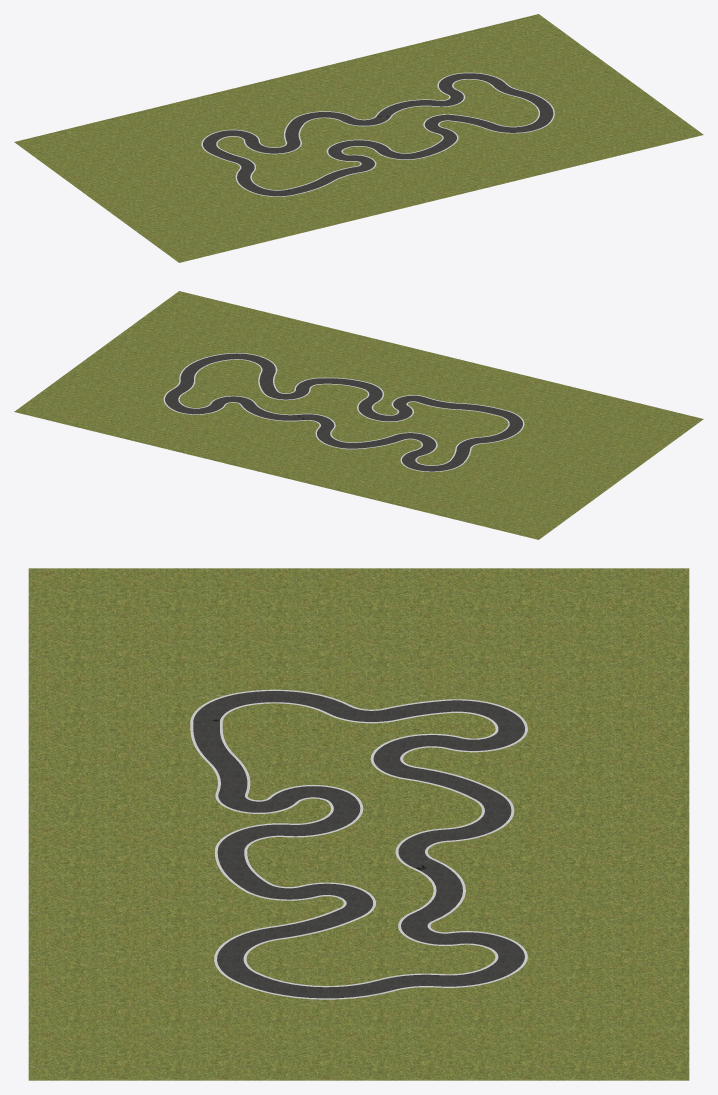
File: track14.dae
3 renders of one model, top to bottom at view 1: azimuth 30°, elevation 25°; view 2: azimuth 150°, elevation 25°; view 3: azimuth 270°, elevation 25°, orthographic. The views are drawn at different scales.
Visible parts, largest first — view 1: field, road, outerline, innerline; view 2: field, road, outerline, innerline; view 3: field, road, outerline, innerline.
Boxes of the visible parts, x1,y1,x2,y2 form: field: (14,14,703,262); road: (203,73,553,196); outerline: (201,72,554,196); innerline: (216,79,539,190); field: (14,291,703,539); road: (165,353,522,471); outerline: (163,353,524,472); innerline: (178,359,509,465); field: (28,568,689,1080); road: (193,691,524,998); outerline: (190,689,527,999); innerline: (220,702,498,987).
Size of the model in its own units: 74.83 by 40.8 by 0.01.
Materials: 3 (3 with a texture image).
